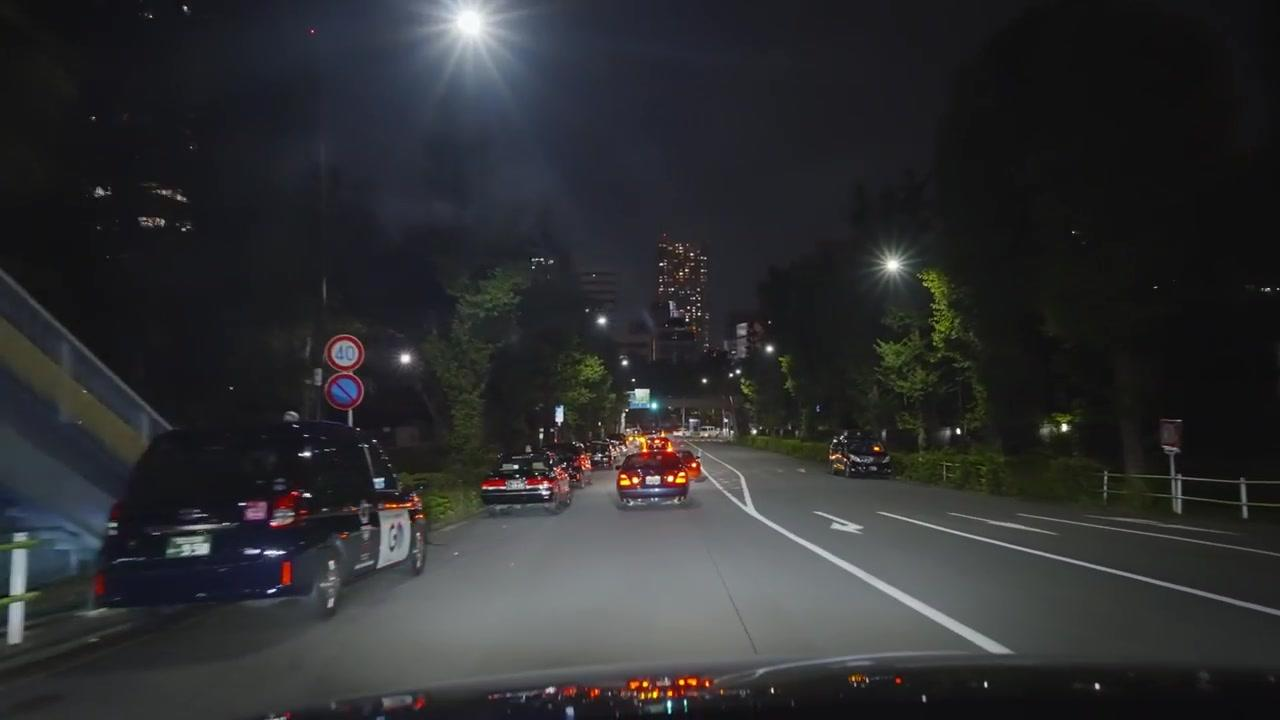car: (93, 419, 429, 619), (480, 455, 573, 513), (615, 448, 690, 508), (828, 432, 893, 478), (546, 443, 591, 485), (676, 447, 703, 480), (591, 449, 613, 467)
